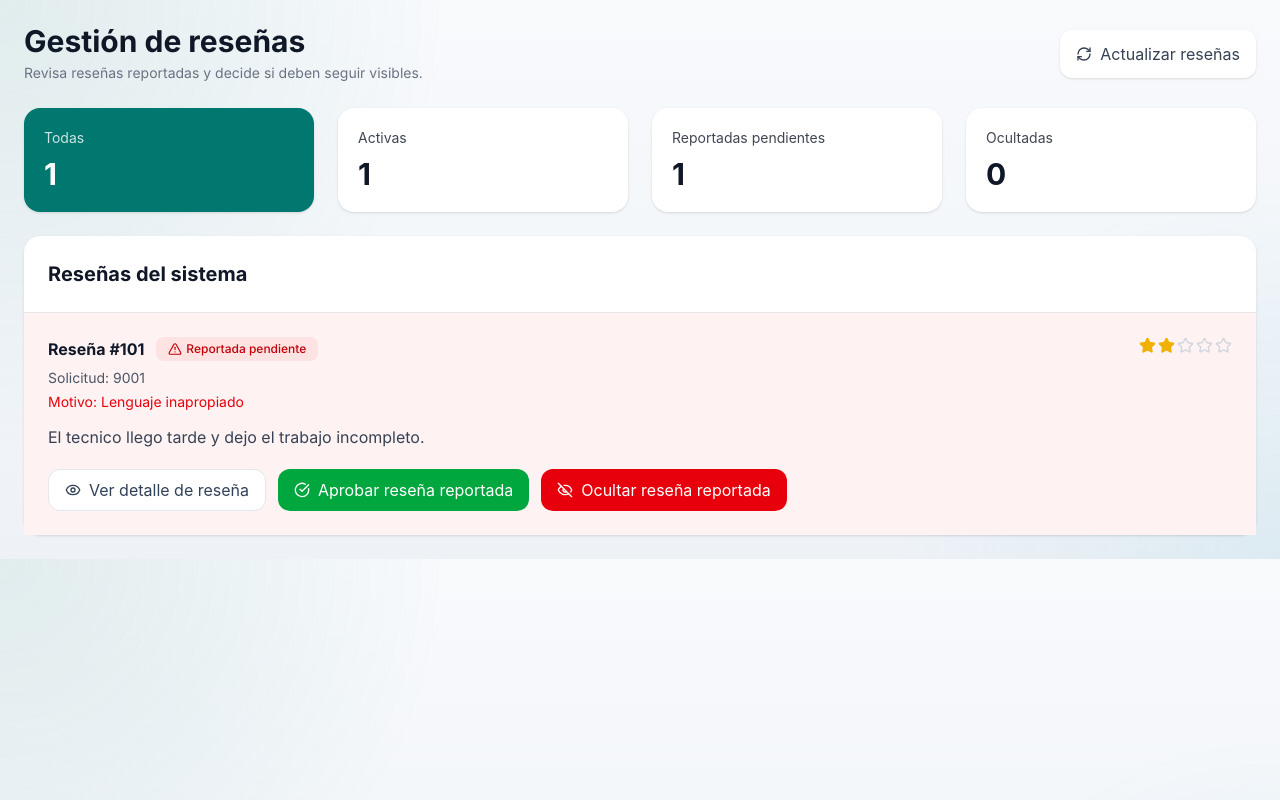
Test: ReviewManagement › CP-REV-003 aprueba una reseña reportada pendiente
Expected: the heading "Gestión de reseñas" is shown, [24,24,305,60]
Click the button "Aprobar reseña reportada": (404, 490) [278,469,529,511]
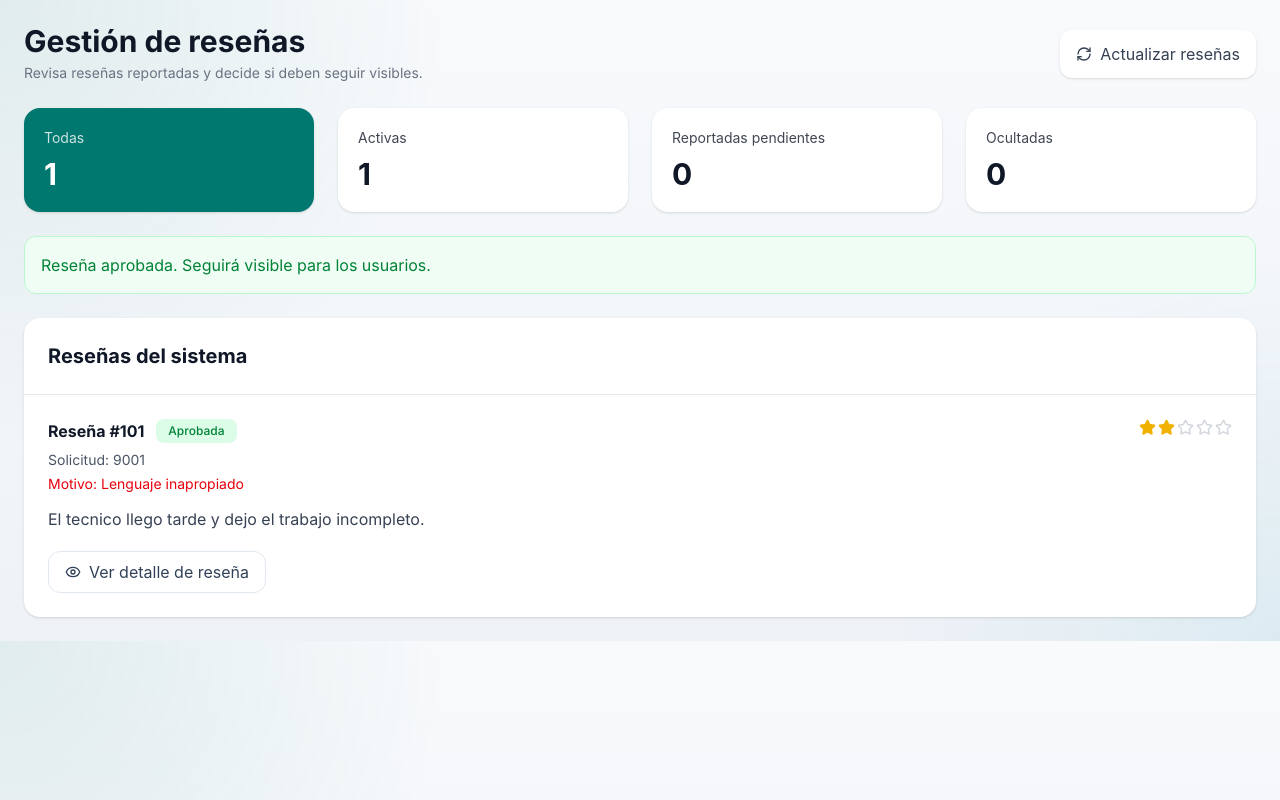
Result: the text "Reseña aprobada. Seguirá visible para los usuarios." is shown at [24,236,1256,294]
Result: the text "Aprobada" is shown at [156,419,237,443]
Result: the button "aprobar rese.a reportada" is gone
